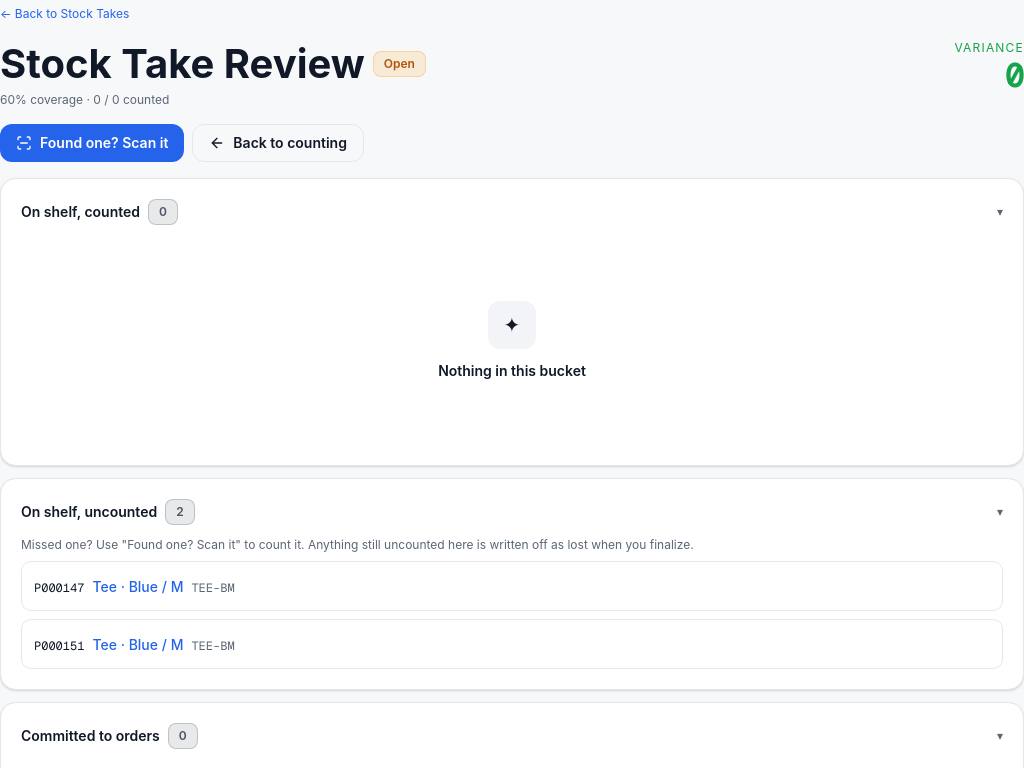
stock-take review — scan instead of Found it / Mark lost › rs2 — overlay: a keyboard scan counts the piece through POST /scan, the review reloads; Done unmounts it
Click the button "Found one? Scan it" at x=92, y=143, box [0,124,184,162]
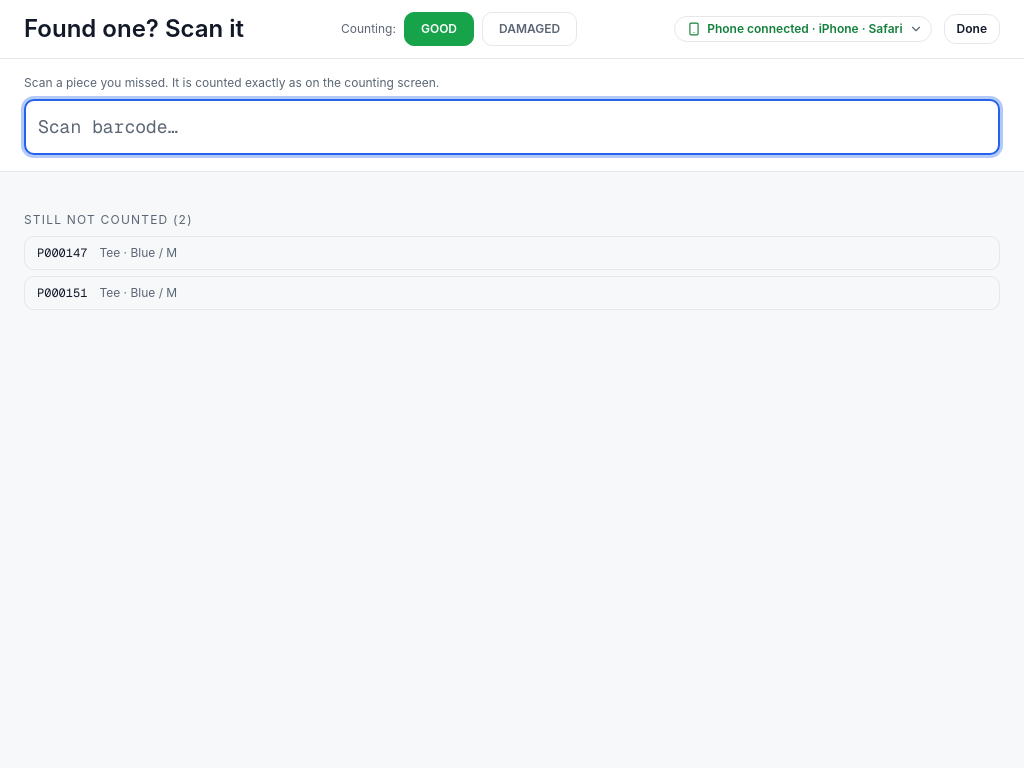
Now the list with test id "review-scan-uncounted" shows "P000147", box [37,245,87,261]
Type "PC-p-miss" into the field at x=512, y=127, box [24,99,1000,155]
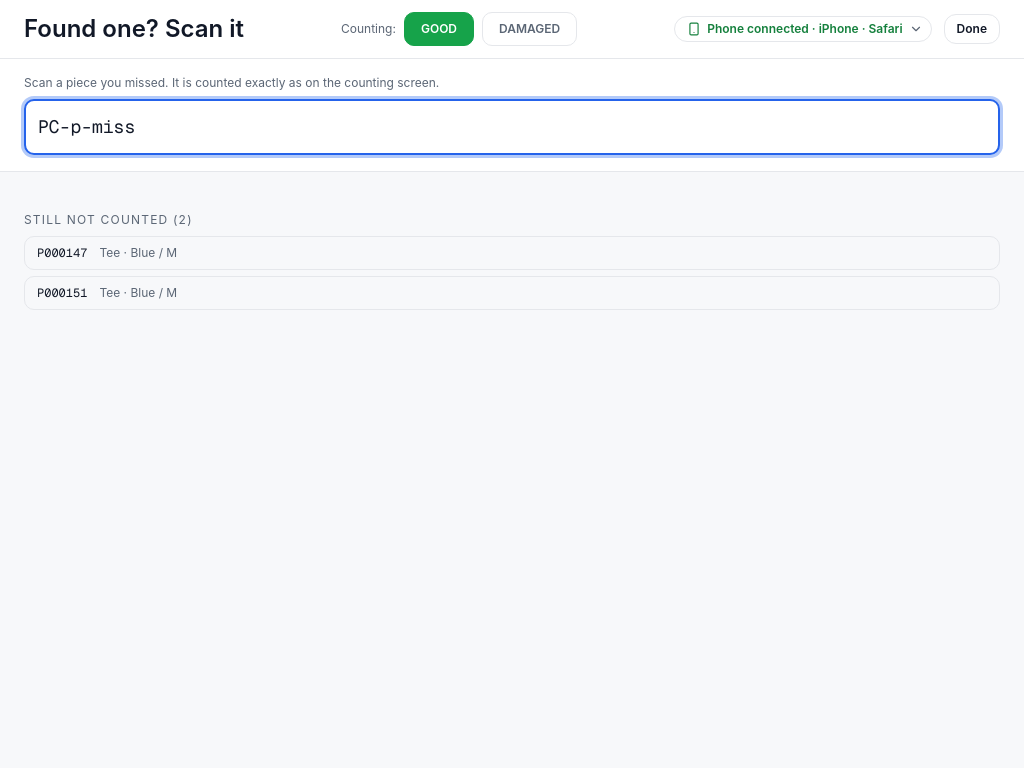
Press Enter in the field, box [24,99,1000,155]
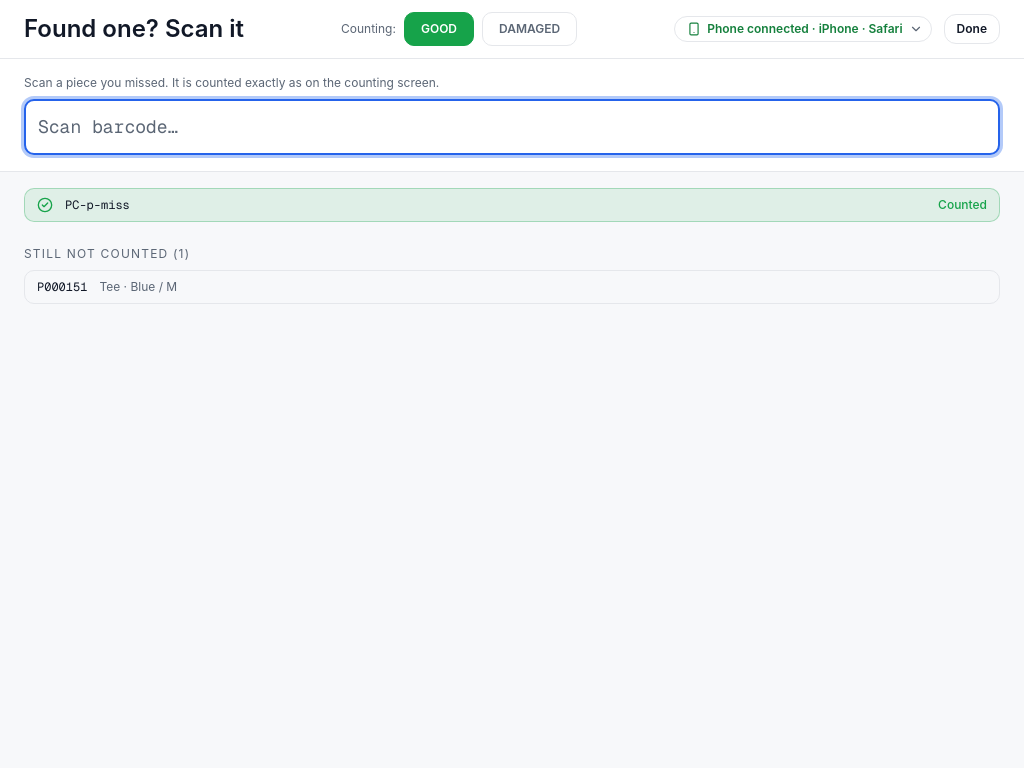
Now the list with test id "review-scan-uncounted" shows "P000151", box [37,279,87,295]
Now the text "Counted" is shown, box [938,197,987,213]
Now the list with test id "review-scan-uncounted" no longer shows "P000147", box [24,270,1000,304]
Click the button "Done" at x=972, y=29, box [944,14,1000,44]
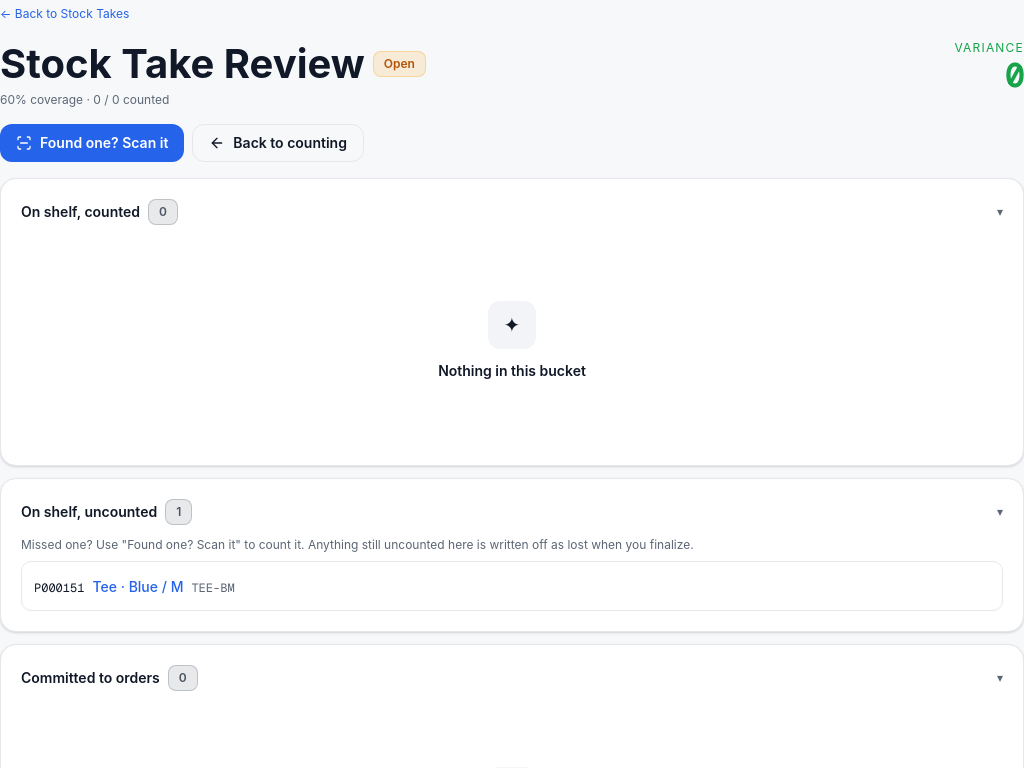
Now the dialog with test id "review-scan-overlay" is gone
